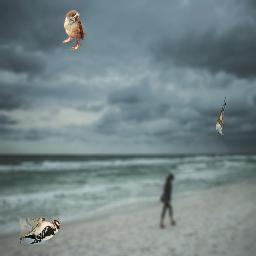Cuckoo: (216, 97, 226, 135)
Sparrow: (62, 10, 89, 50)
Woodpecker: (20, 218, 60, 244)
